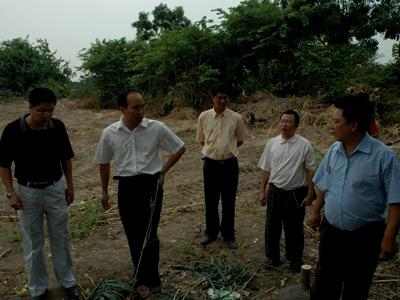no_helmet: (324, 92, 372, 147), (25, 85, 58, 126), (117, 88, 146, 125), (276, 108, 303, 138), (208, 82, 234, 113)
